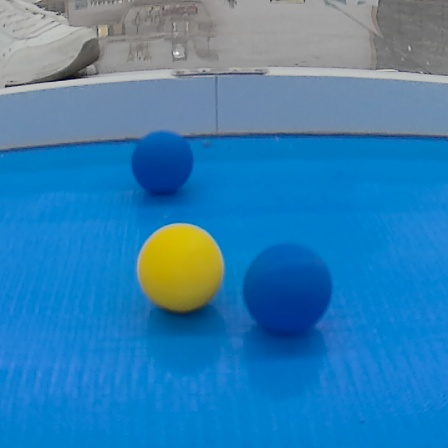blue: (241, 242, 338, 343), (131, 128, 198, 194)
blue_base: (4, 132, 448, 448)
yellow: (135, 220, 231, 315)
